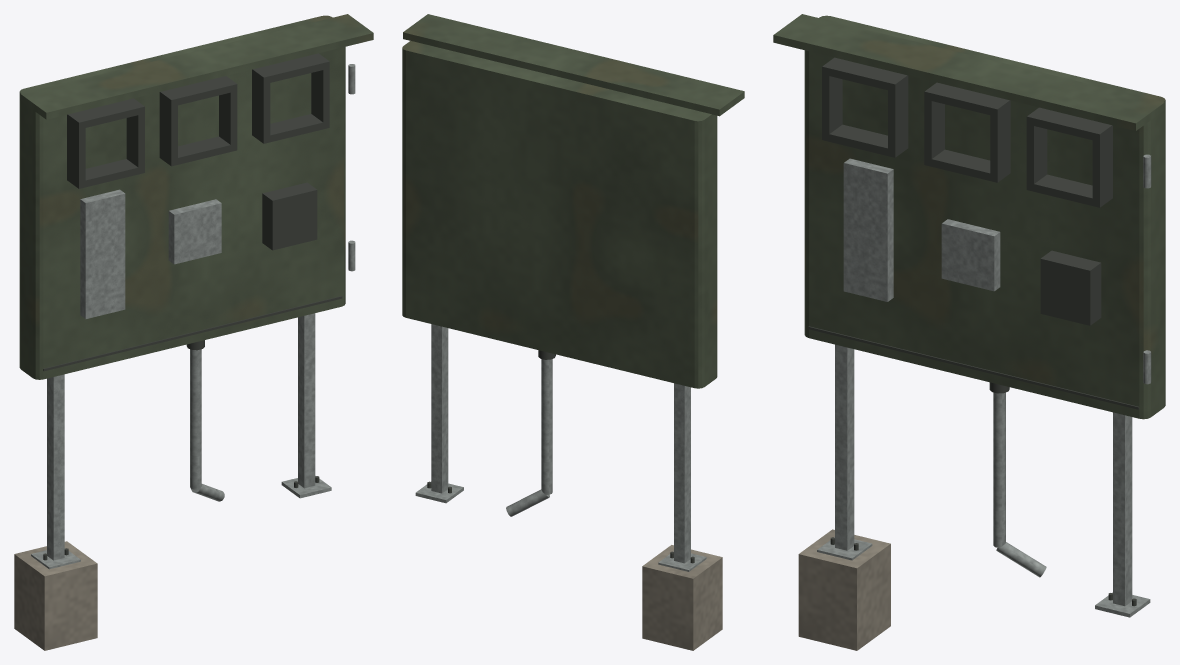
The model's file is SM_SubstationField_TestFixture.fbx.
The picture shows the model from 3 angles, left to right: view 1: azimuth 30°, elevation 25°; view 2: azimuth 150°, elevation 25°; view 3: azimuth 330°, elevation 25°; orthographic projection. The views are drawn at different scales.
Visible parts, largest first — view 1: SM_SubstationField_TestFixture; view 2: SM_SubstationField_TestFixture; view 3: SM_SubstationField_TestFixture.
Part boxes in pixels (<box>): SM_SubstationField_TestFixture: <box>14,14,373,650</box>; SM_SubstationField_TestFixture: <box>402,14,744,650</box>; SM_SubstationField_TestFixture: <box>773,14,1165,650</box>.
Bounding box in the file's own units: 1.24 × 0.28 × 1.99.
